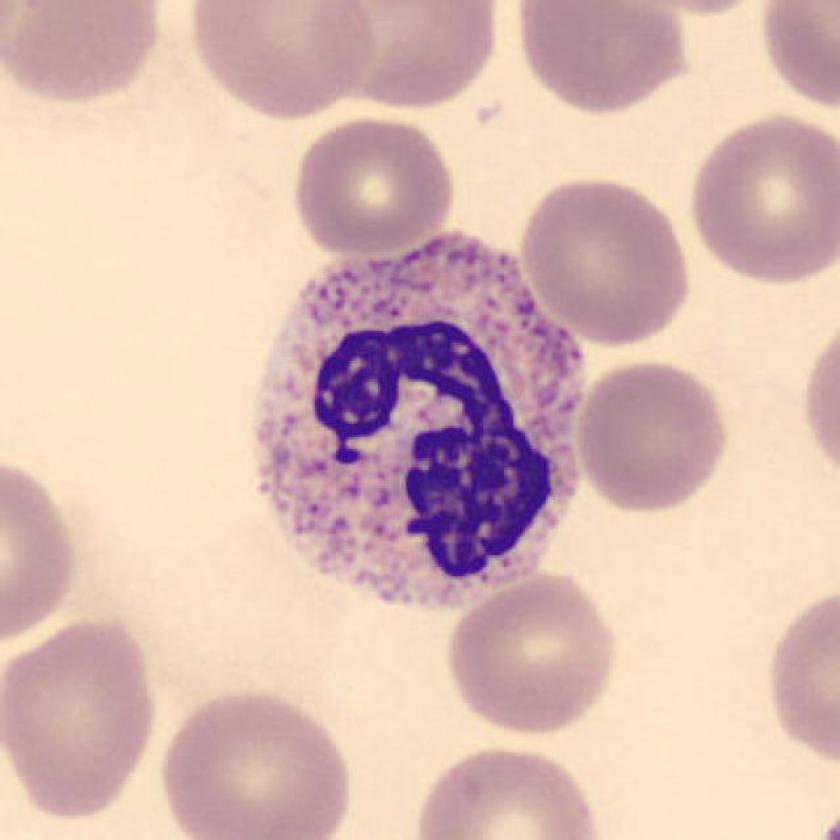neutrophil: (256, 235, 589, 610)
